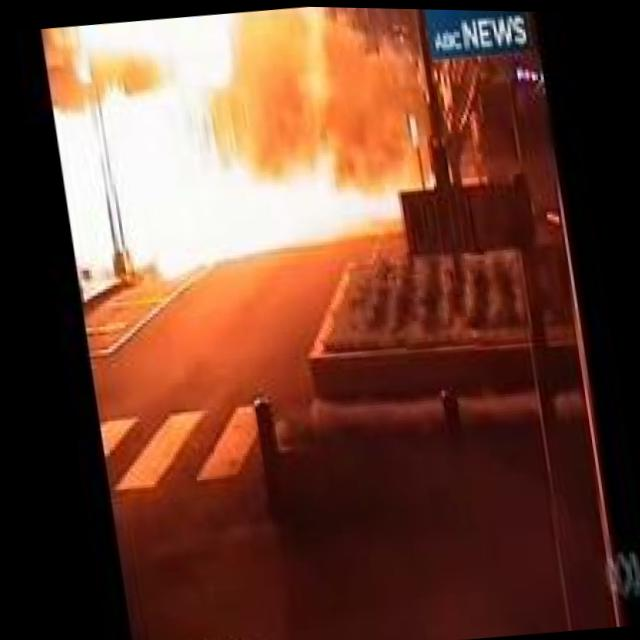fire: (39, 1, 408, 290)
